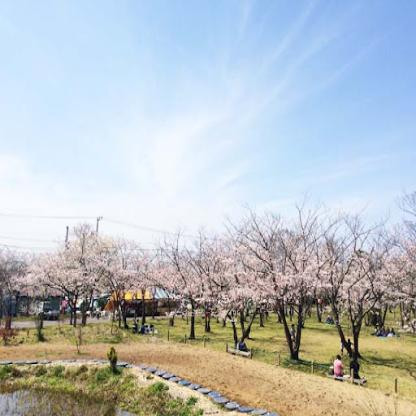Someiyoshino: (1, 232, 414, 311)
